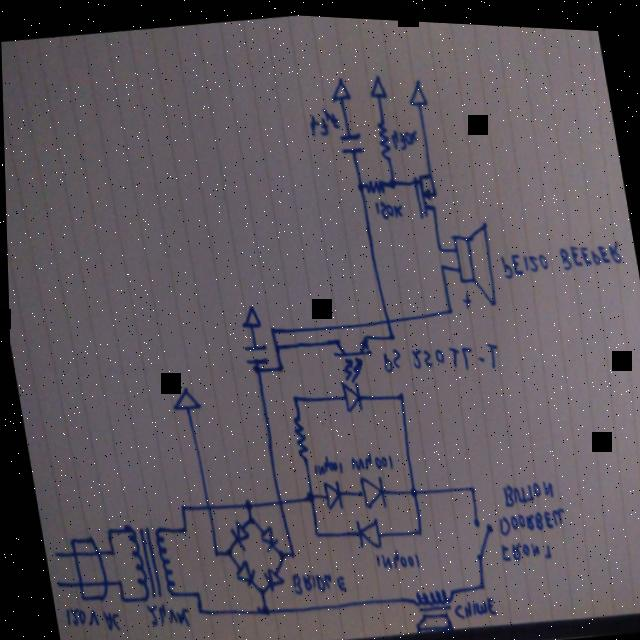capacitor: (336, 127, 366, 155), (239, 340, 269, 366)
crossover: (381, 311, 390, 324), (273, 494, 282, 506), (202, 500, 209, 512)
diode: (355, 468, 386, 509), (351, 513, 379, 549), (318, 475, 344, 510), (224, 517, 249, 552), (229, 556, 255, 587), (254, 520, 279, 552), (257, 563, 283, 591)
ground: (165, 382, 201, 413), (404, 73, 430, 104), (328, 72, 352, 100), (236, 302, 260, 328), (366, 70, 388, 97)
junction: (239, 496, 251, 511), (405, 482, 417, 496), (385, 174, 397, 187), (220, 543, 231, 557), (273, 547, 284, 560), (243, 511, 254, 524), (257, 601, 267, 615), (310, 524, 320, 538), (385, 327, 396, 339), (250, 363, 261, 374), (266, 323, 276, 334), (285, 546, 295, 557), (355, 178, 365, 189), (445, 300, 454, 312), (271, 341, 280, 352), (274, 360, 283, 371), (394, 388, 403, 399), (436, 258, 445, 269), (193, 605, 202, 615), (289, 391, 297, 402), (435, 242, 444, 251), (255, 584, 263, 594), (304, 490, 311, 500), (178, 524, 185, 534), (177, 502, 184, 512), (475, 577, 482, 587), (413, 524, 420, 533), (102, 527, 109, 536), (113, 578, 120, 587), (466, 481, 473, 490), (210, 548, 217, 557), (116, 596, 123, 604), (191, 589, 197, 598), (106, 548, 112, 557)
resistor: (287, 412, 308, 461), (372, 117, 393, 161), (363, 173, 387, 193)
switch: (465, 512, 496, 560)
terminal: (46, 545, 62, 562), (50, 577, 64, 592)
text: (495, 228, 625, 280), (378, 329, 502, 380), (493, 498, 567, 535), (60, 601, 118, 637), (498, 471, 555, 506), (287, 564, 345, 596), (494, 531, 551, 562), (142, 597, 188, 632), (344, 443, 394, 473), (448, 590, 497, 620), (370, 542, 419, 572), (305, 102, 342, 137), (388, 120, 421, 150), (372, 192, 405, 220), (308, 450, 343, 476)
transformer: (119, 517, 177, 604)
transistor: (410, 166, 442, 218)
